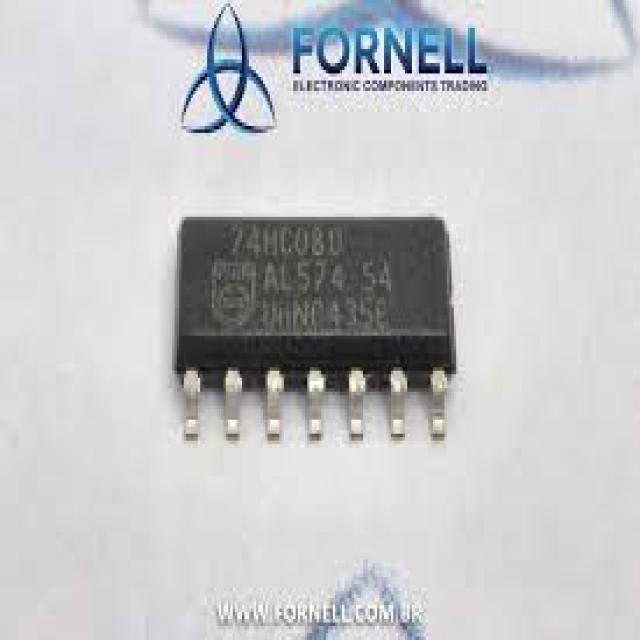IC: (168, 213, 460, 446)
